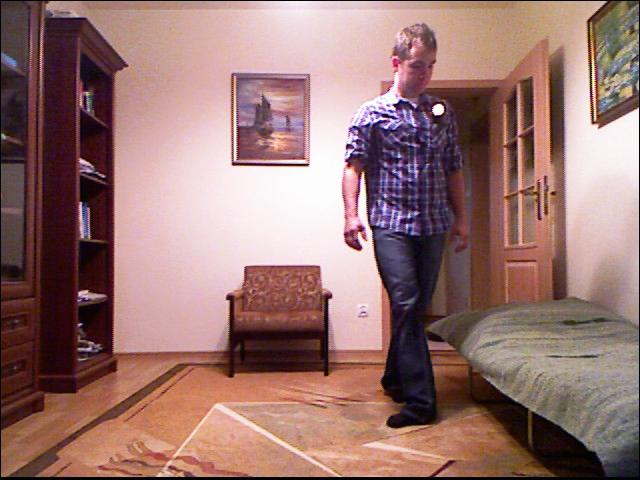walking: (330, 14, 470, 431)
